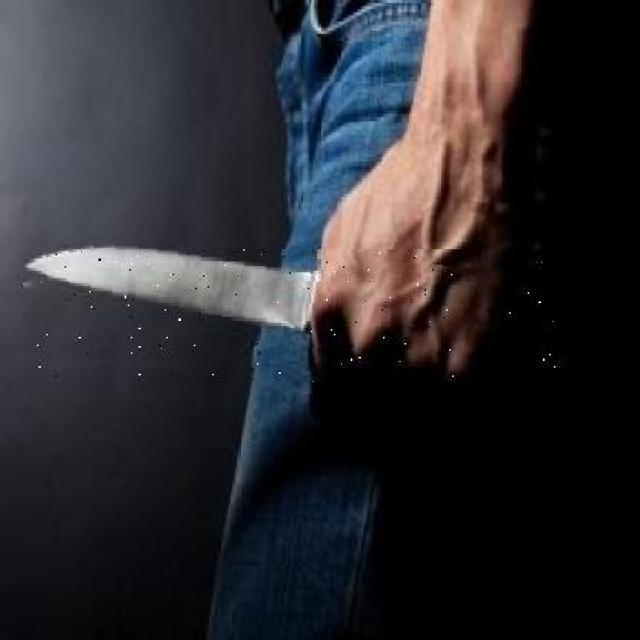knife: (24, 249, 556, 382)
